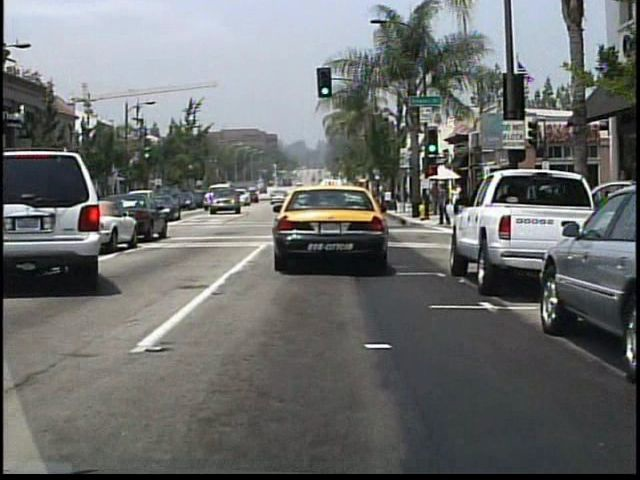person: (437, 182, 450, 226), (428, 182, 440, 216), (450, 181, 461, 211)
